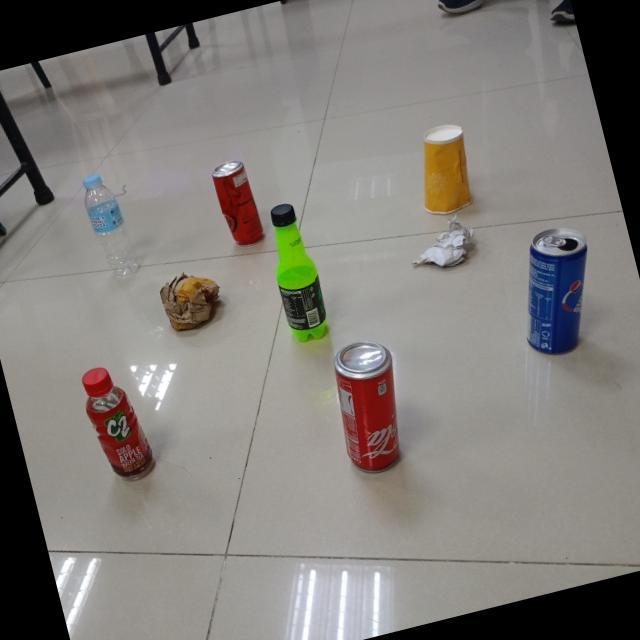recyclable waste: (496, 214, 620, 366), (316, 328, 426, 482), (254, 192, 338, 350), (69, 352, 163, 492), (398, 112, 489, 222), (72, 163, 146, 286), (396, 203, 488, 281), (150, 259, 233, 339), (204, 152, 268, 252)
